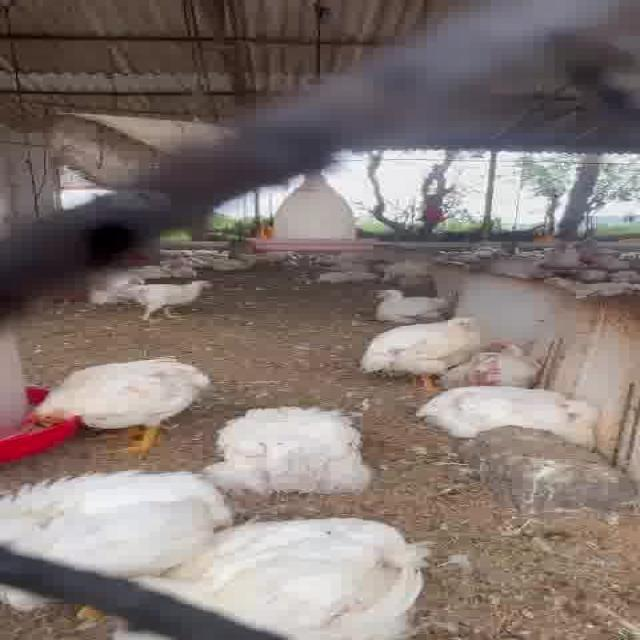AbNormal: (127, 523, 439, 636), (0, 472, 223, 600), (198, 396, 394, 494), (427, 382, 603, 452), (437, 336, 567, 386), (366, 285, 468, 321)
Normal: (18, 348, 222, 456), (366, 316, 474, 371), (126, 270, 227, 327)
